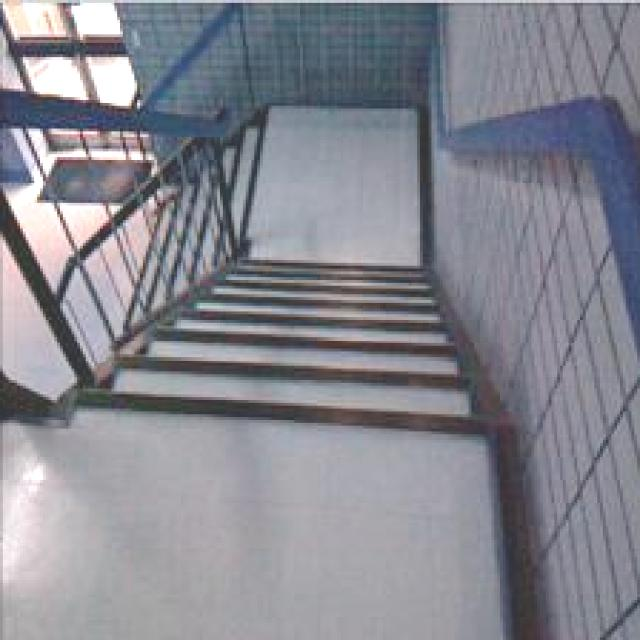downstair: (90, 287, 518, 498)
